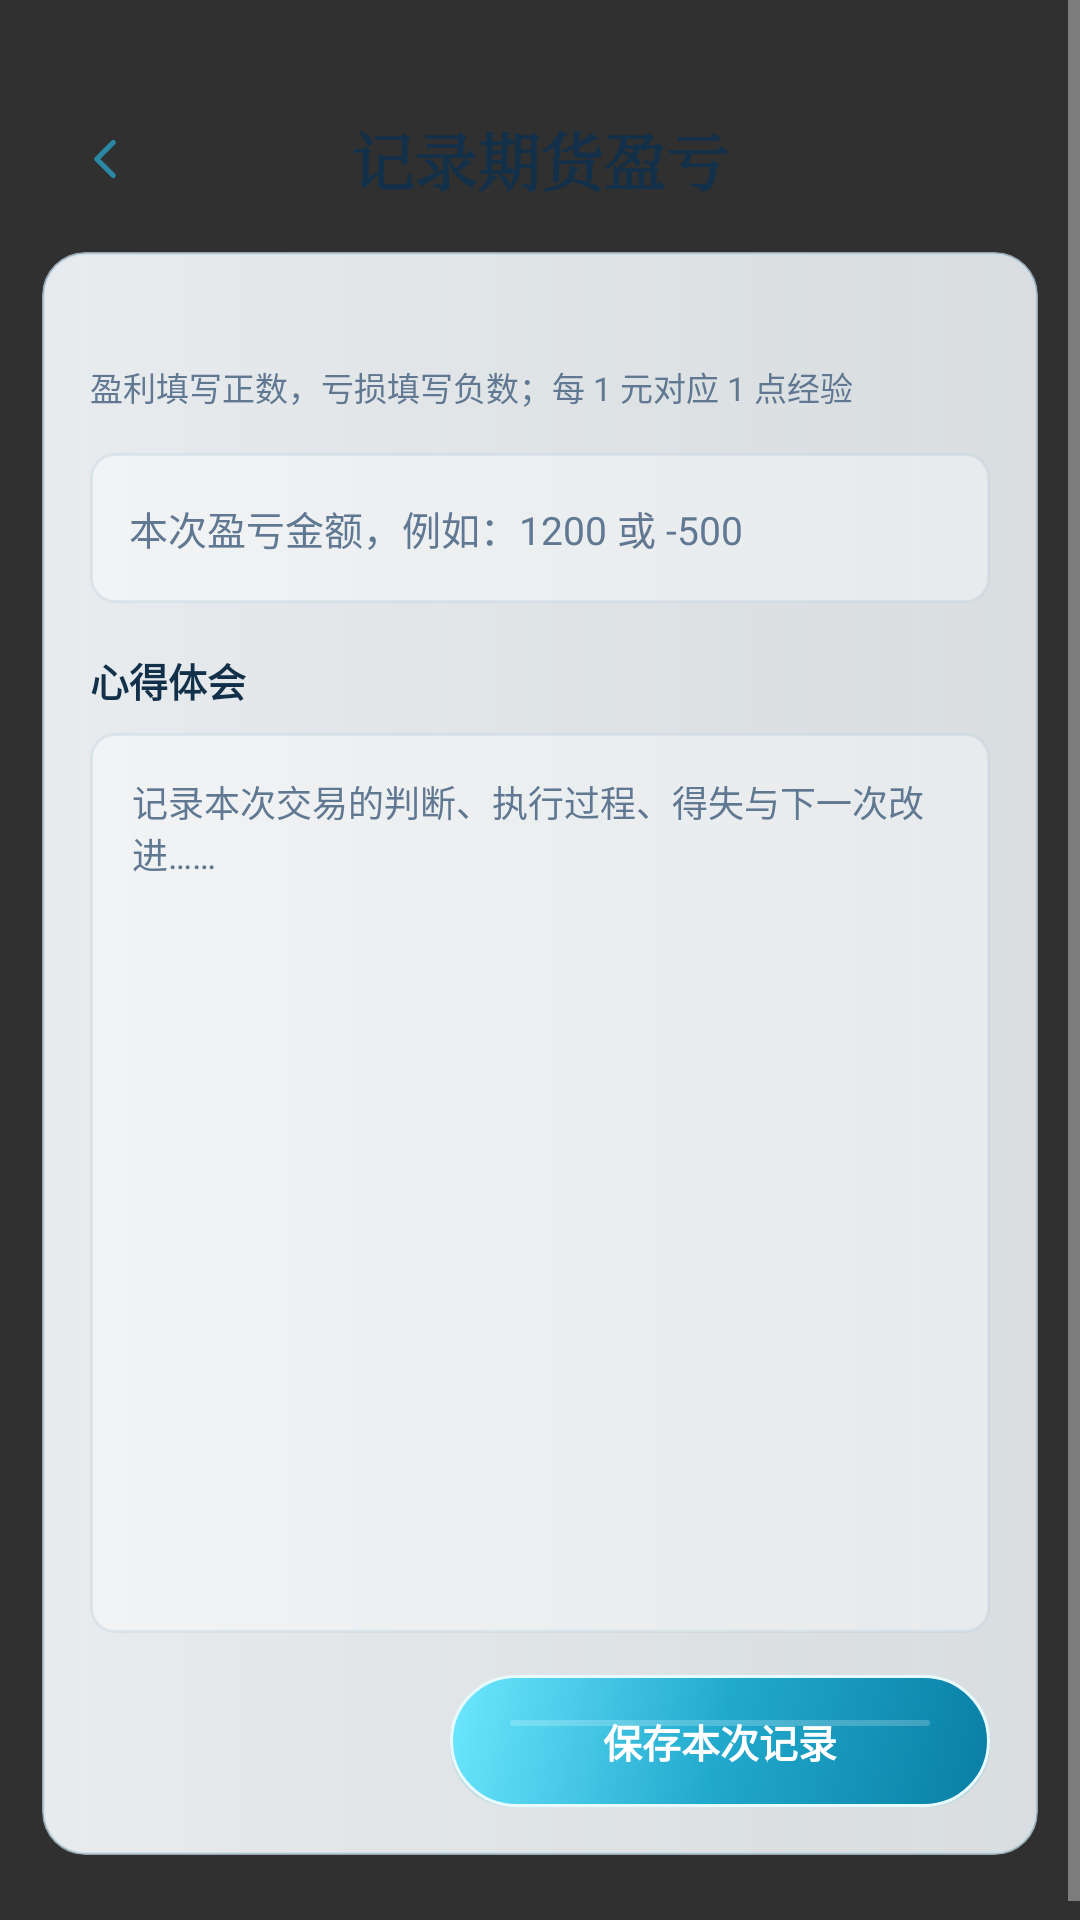

Where to tap for icons on this 1080w x 1920h app screen, as point (x, y):
返回: point (105, 159)
